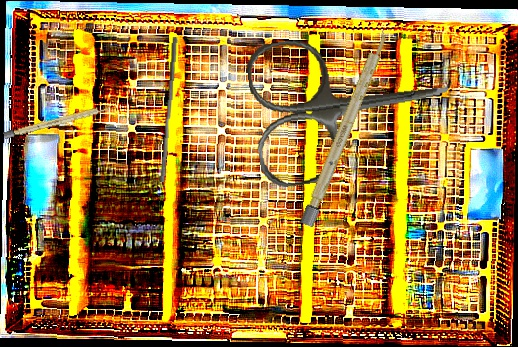Iris Scissors: (243, 20, 459, 190)
Pusher: (159, 36, 178, 183)
Scalpel Handle: (299, 28, 392, 228), (2, 103, 113, 140)
